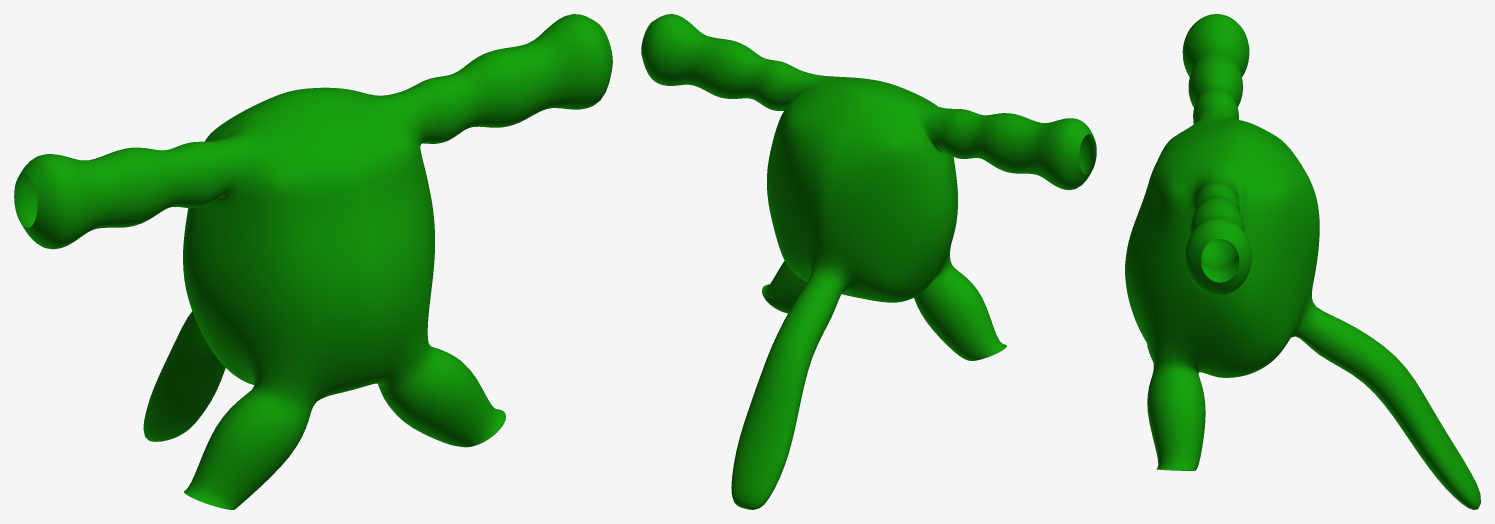
Rendered from zone4-singe-green.gltf.
3 renders of one model, left to right at view 1: azimuth 30°, elevation 25°; view 2: azimuth 150°, elevation 25°; view 3: azimuth 270°, elevation 25°, orthographic. The views are drawn at different scales.
Parts seen in each view (by area): view 1: Roundcube.028; view 2: Roundcube.028; view 3: Roundcube.028.
Part boxes in pixels (left/top/right/bottom): Roundcube.028: left=14, top=14, right=612, bottom=509; Roundcube.028: left=641, top=14, right=1096, bottom=509; Roundcube.028: left=1125, top=14, right=1480, bottom=509.
Size of the model in its own units: 4.29 by 3.34 by 2.76.
